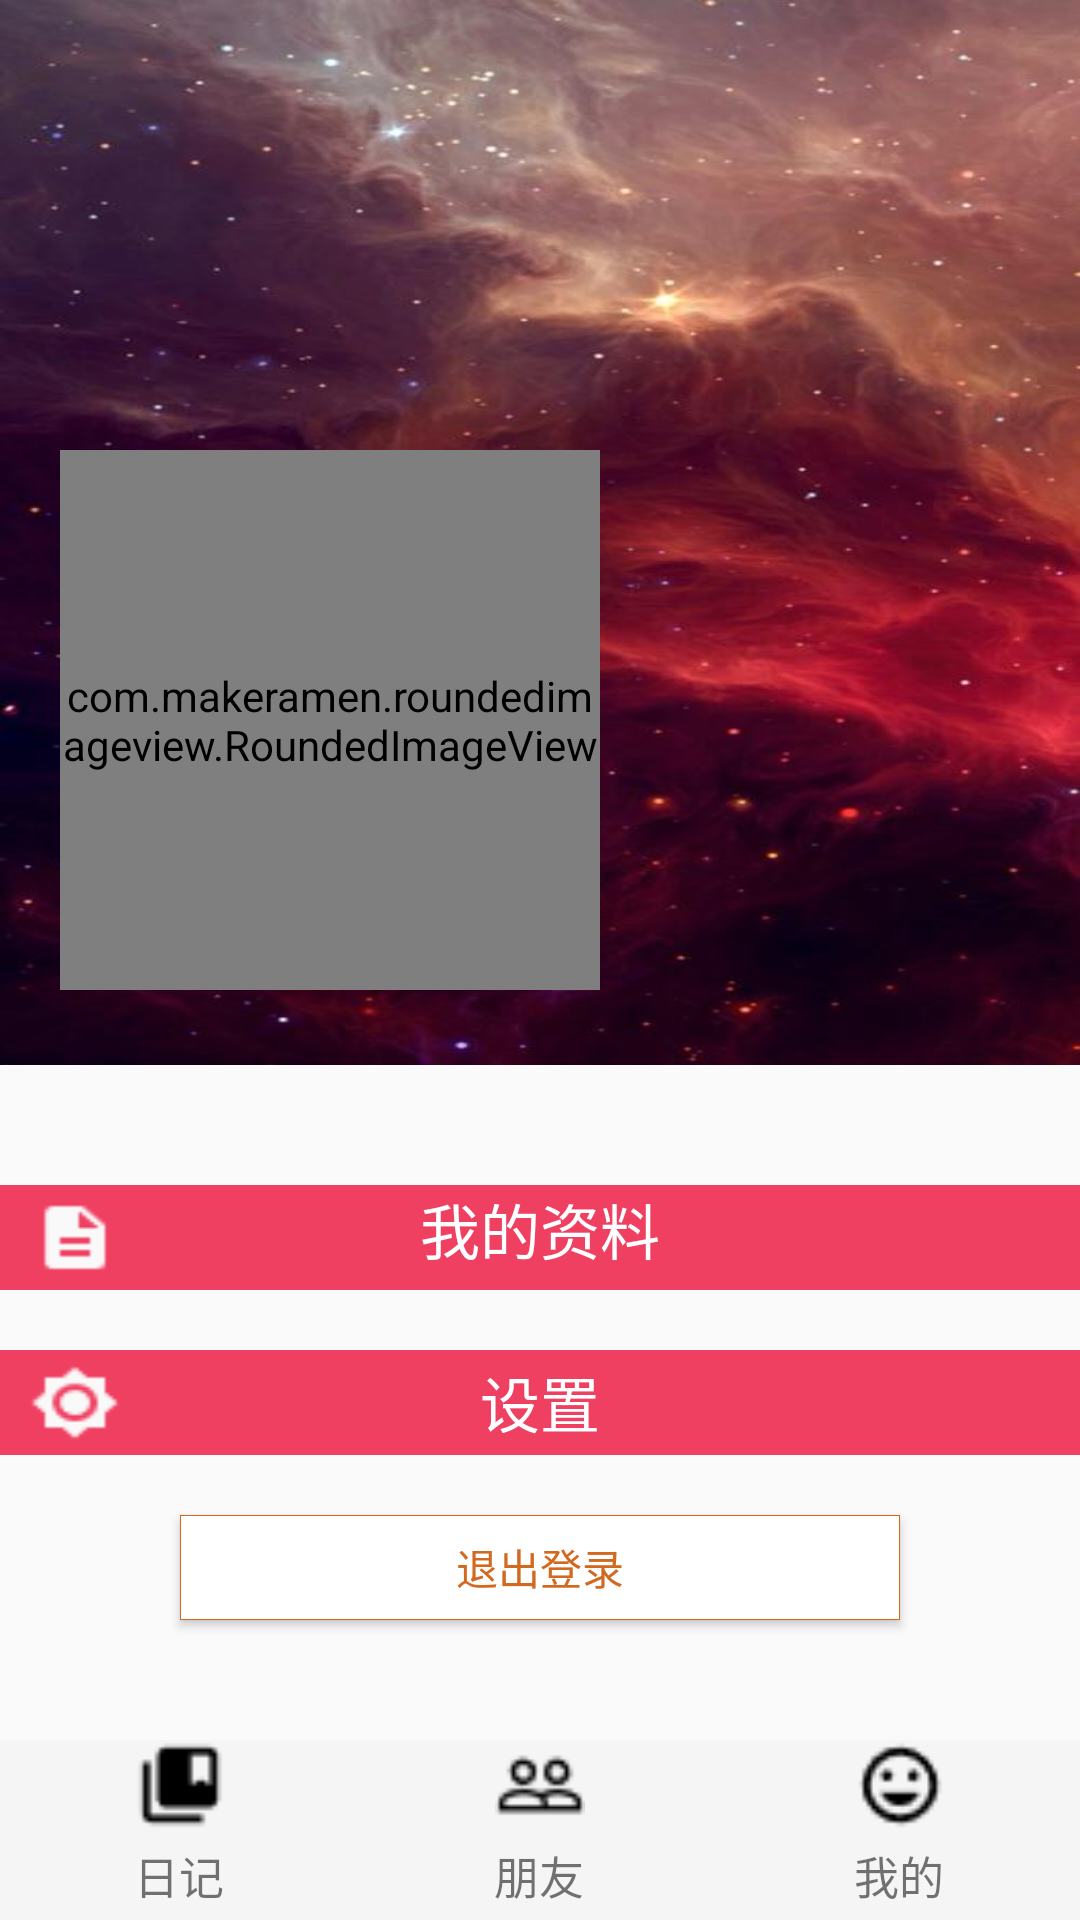

Named icons in this screenshot (1080x1920) and their centers, [x,y]:
data: [75,1237]
set: [75,1402]
